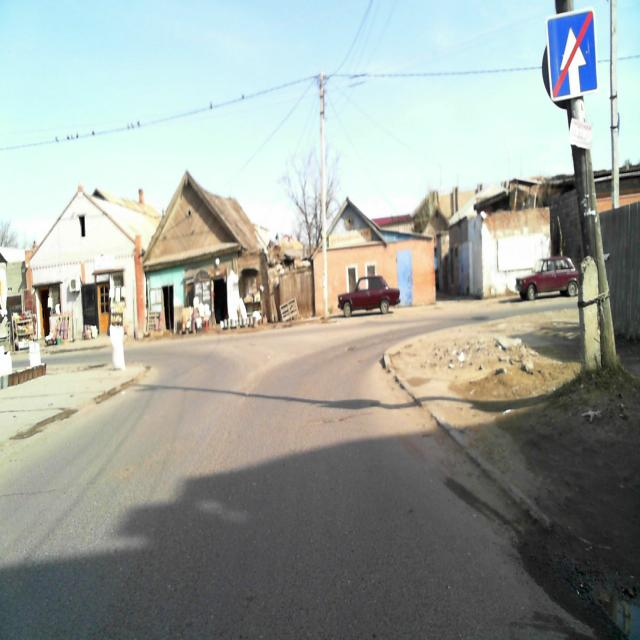road sign: (549, 9, 599, 103)
